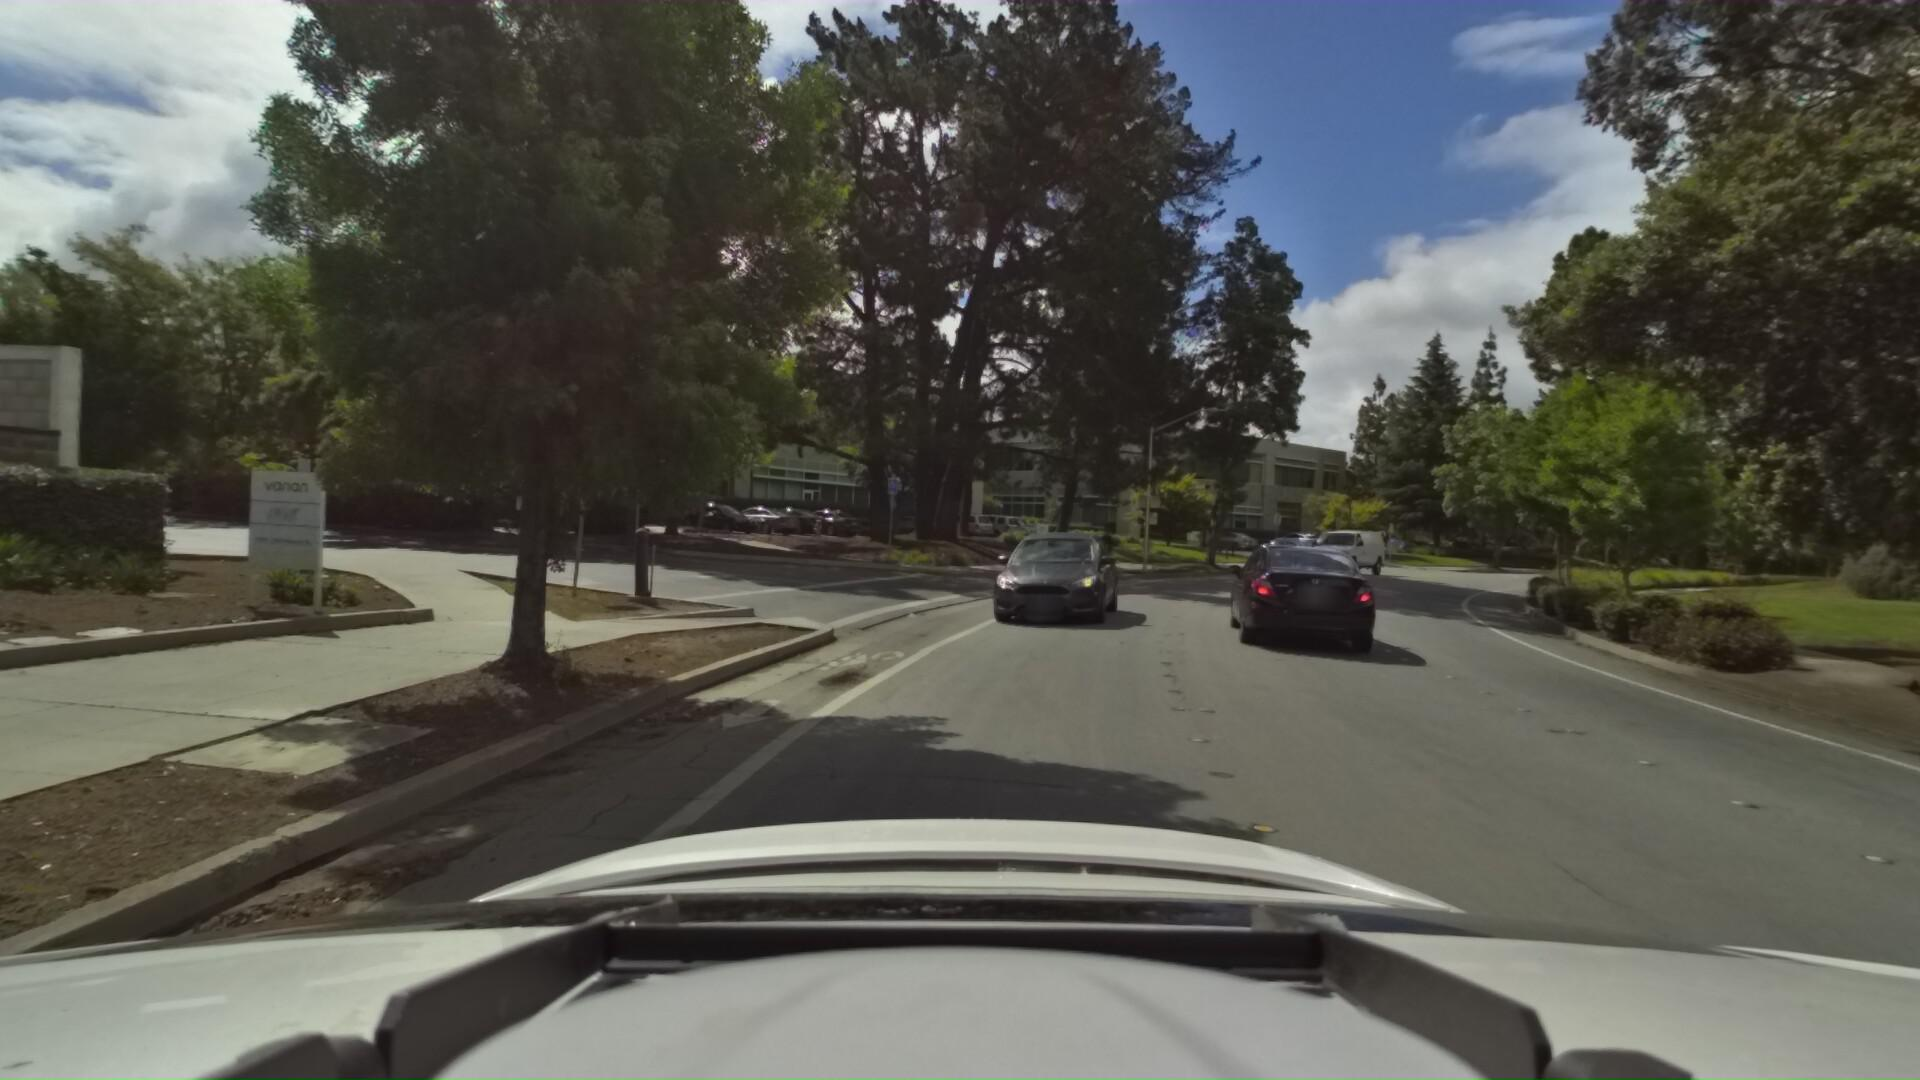car: (1221, 513, 1396, 655), (975, 509, 1127, 620), (1298, 513, 1393, 570)
